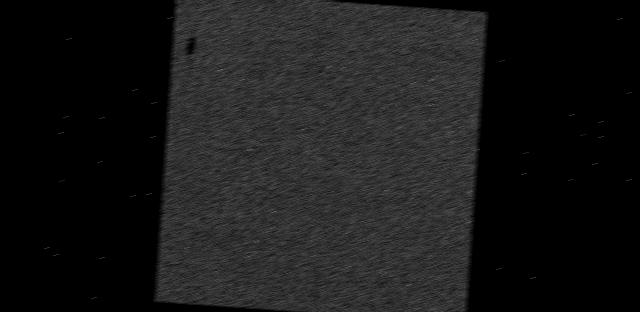inclusion: (175, 20, 204, 63)
